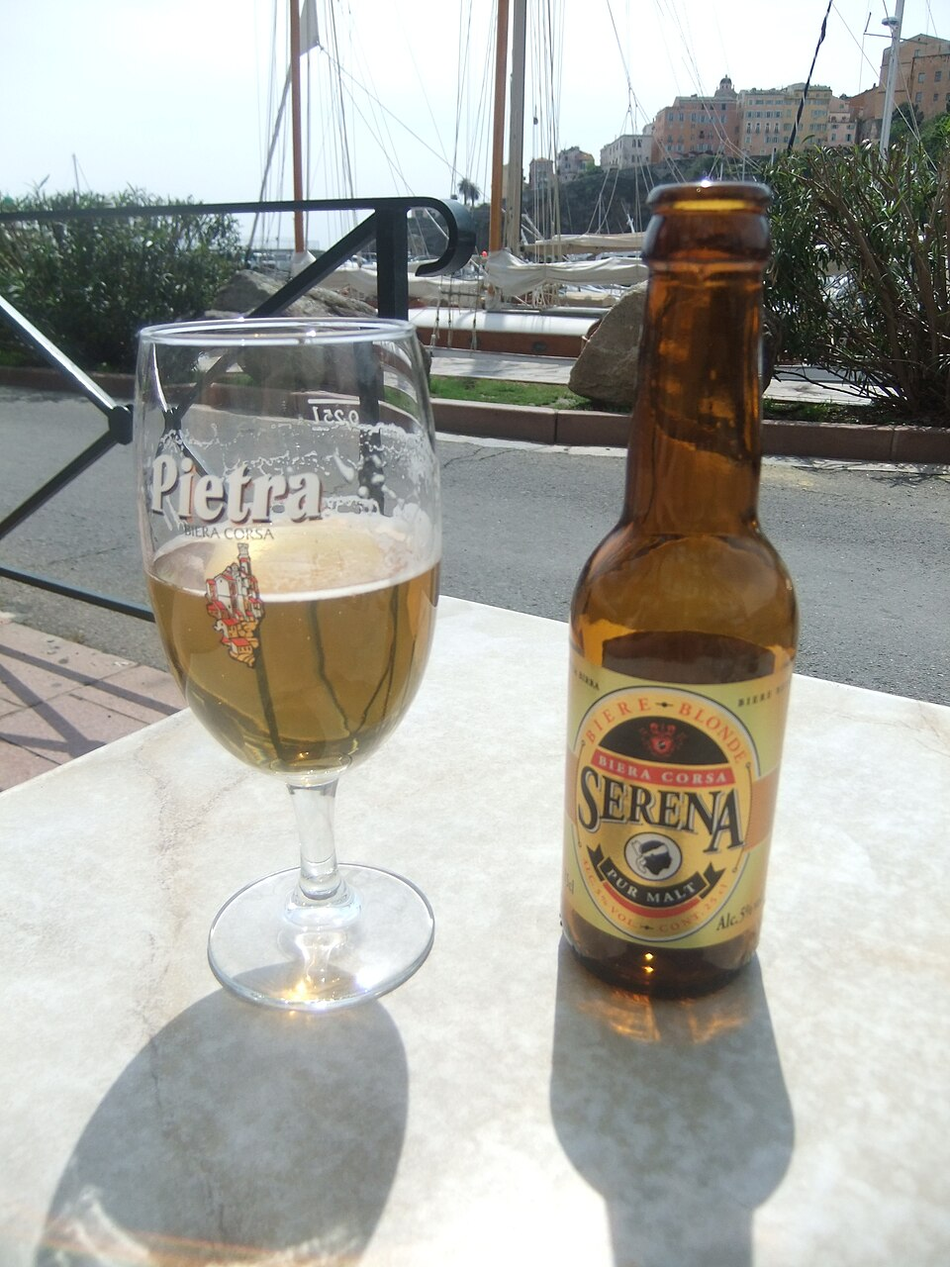beer-bottle: (548, 175, 809, 1007)
